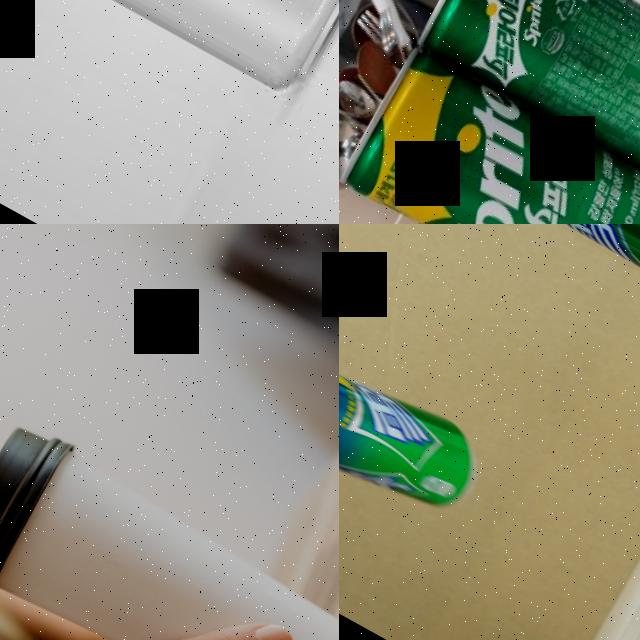can: (341, 42, 640, 224), (410, 0, 640, 192), (339, 308, 494, 539), (0, 0, 339, 103), (425, 224, 640, 316)
cup: (0, 412, 339, 640)
